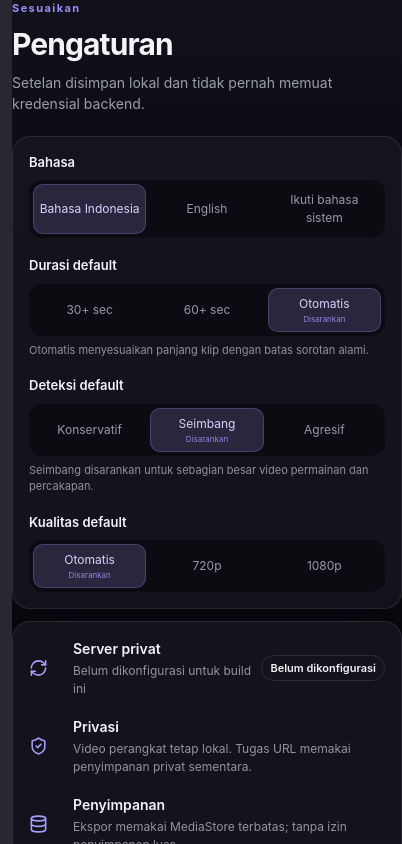
Test case: lightweight localization › persists English and updates immediately
Step 1. Click the button "English" → [207, 209], box [150,184,264,234]
(page scrolled)
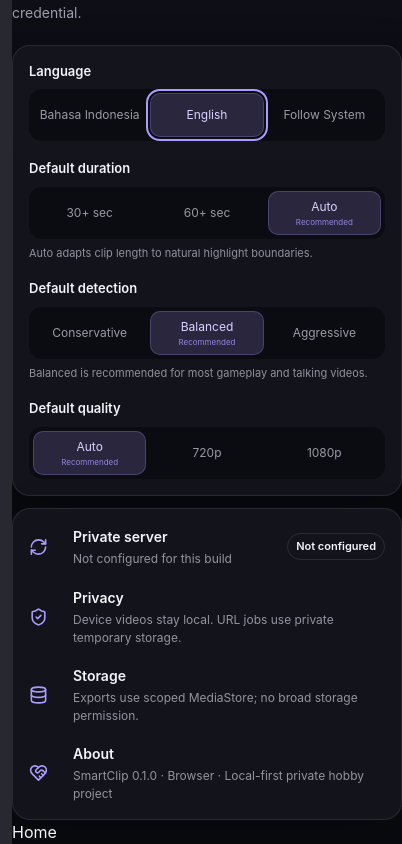
expect the text "Home" is shown: met, box [12,822,57,842]
